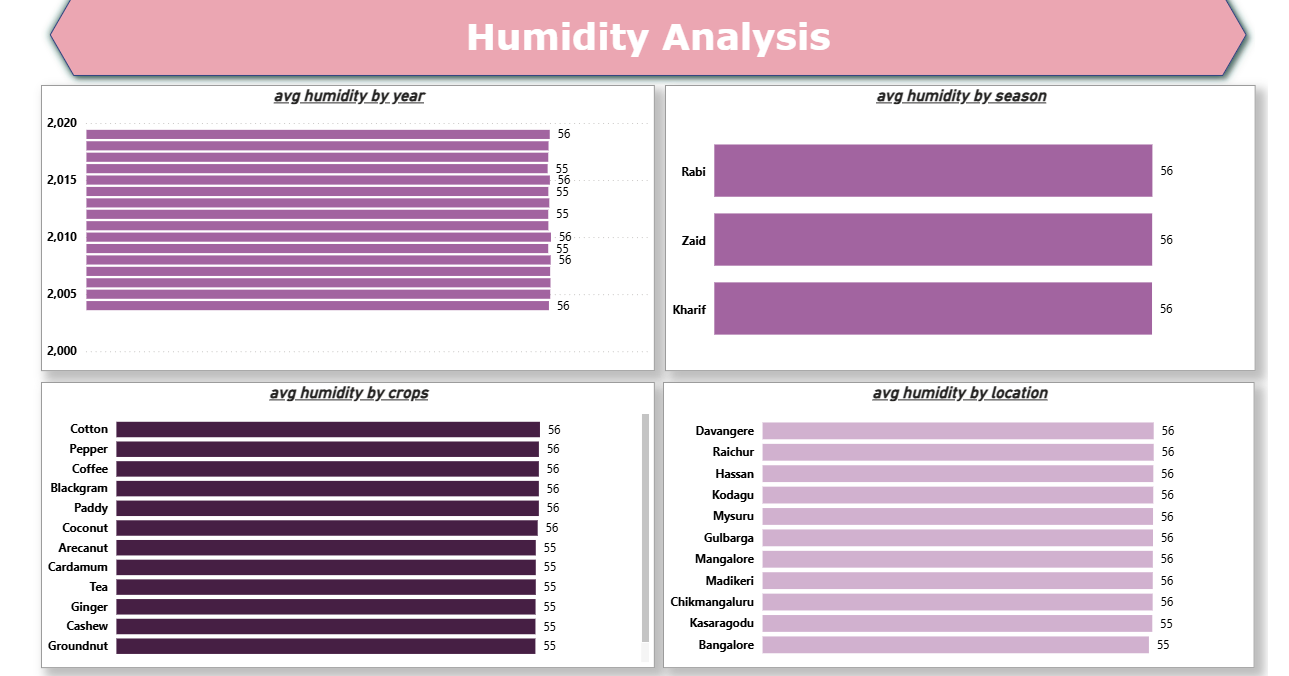

Layout of this report page (visuals, bound fields, positions):
{"tool":"powerbi","page":{"name":"Humidity Analysis","canvas":[1280,720],"ordinal":2},"visuals":[{"type":"shape","box":[10.5,0,1256.3,103.1],"z":0},{"type":"barChart","title":"avg humidity by year","fields":{"Category":["AGRICULTURE.YEAR"],"Y":["Avg(AGRICULTURE.HUMIDITY)"]},"box":[10.5,103.1,634.9,295.8],"z":1000},{"type":"barChart","title":"avg humidity by season","fields":{"Category":["AGRICULTURE.SEASON"],"Y":["Avg(AGRICULTURE.HUMIDITY)"]},"box":[655.8,103.1,611,295.8],"z":2000},{"type":"barChart","title":"avg humidity by crops","fields":{"Category":["AGRICULTURE.CROPS"],"Y":["Avg(AGRICULTURE.HUMIDITY)"]},"box":[10.5,410.8,634.9,295.8],"z":3000},{"type":"barChart","title":"avg humidity by location","fields":{"Category":["AGRICULTURE.LOCATION"],"Y":["Avg(AGRICULTURE.HUMIDITY)"]},"box":[654.3,410.8,612.4,295.8],"z":4000}]}

Visuals, with their boxes on the page's 1280x720 design canvas (x1, y1, x2, y2). These are canvas units, not pixel positions in the 1289x676 screenshot, which may show the page scaled, cropped or inside an application window:
shape: BBox(10, 0, 1267, 103)
"avg humidity by year" barChart: BBox(10, 103, 645, 399)
"avg humidity by season" barChart: BBox(656, 103, 1267, 399)
"avg humidity by crops" barChart: BBox(10, 411, 645, 707)
"avg humidity by location" barChart: BBox(654, 411, 1267, 707)
